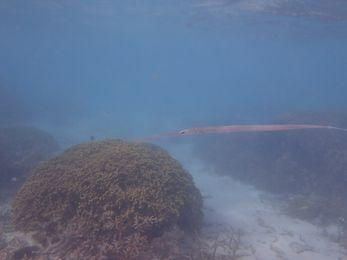Fistularia commersonii: (146, 109, 347, 146)
